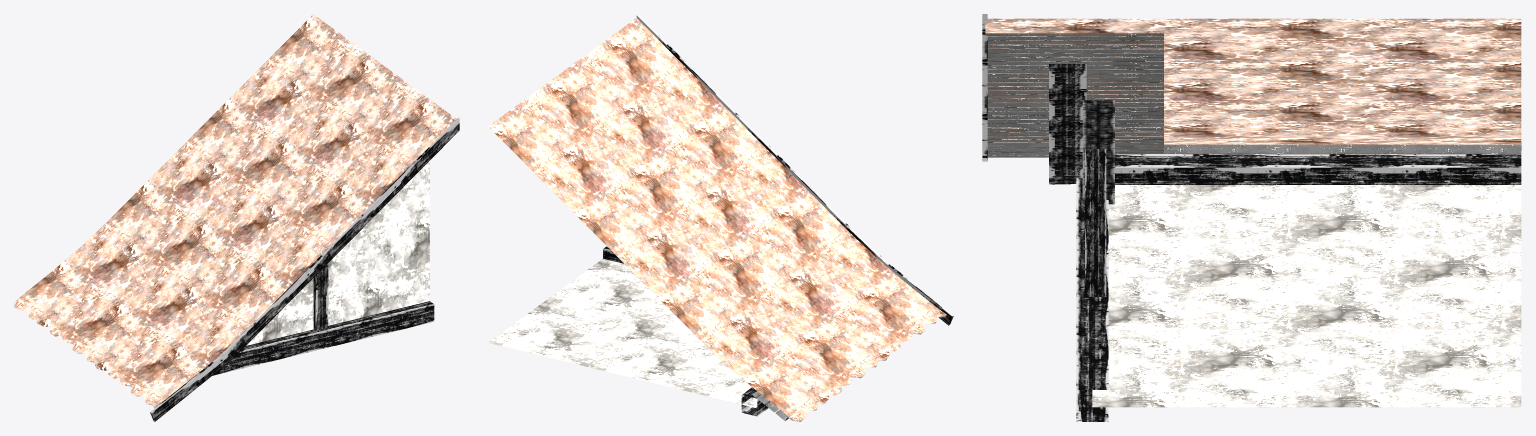
The model's file is SM_roof_A_part_01_01.fbx.
The picture shows the model from 3 angles, left to right: view 1: azimuth 30°, elevation 25°; view 2: azimuth 150°, elevation 25°; view 3: azimuth 270°, elevation 25°; orthographic projection. The views are drawn at different scales.
Parts seen in each view (by area): view 1: SM_roof_A_part_01_01_LOD0; view 2: SM_roof_A_part_01_01_LOD0; view 3: SM_roof_A_part_01_01_LOD0.
Boxes of the visible parts, left/top/right/bottom form: SM_roof_A_part_01_01_LOD0: left=14, top=14, right=459, bottom=421; SM_roof_A_part_01_01_LOD0: left=488, top=14, right=953, bottom=421; SM_roof_A_part_01_01_LOD0: left=982, top=14, right=1521, bottom=421.
Bounding box in the file's own units: 611 × 503 × 433.
Materials: 6 (6 with a texture image).
